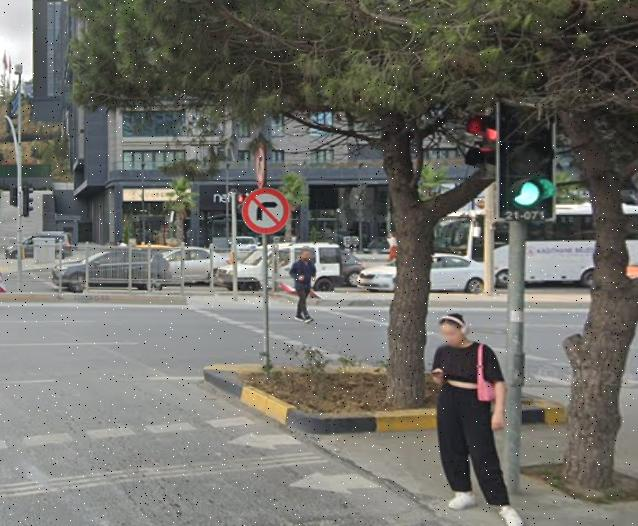greenlight: (501, 106, 557, 220)
rightturnsareforbidden: (243, 188, 286, 231)
